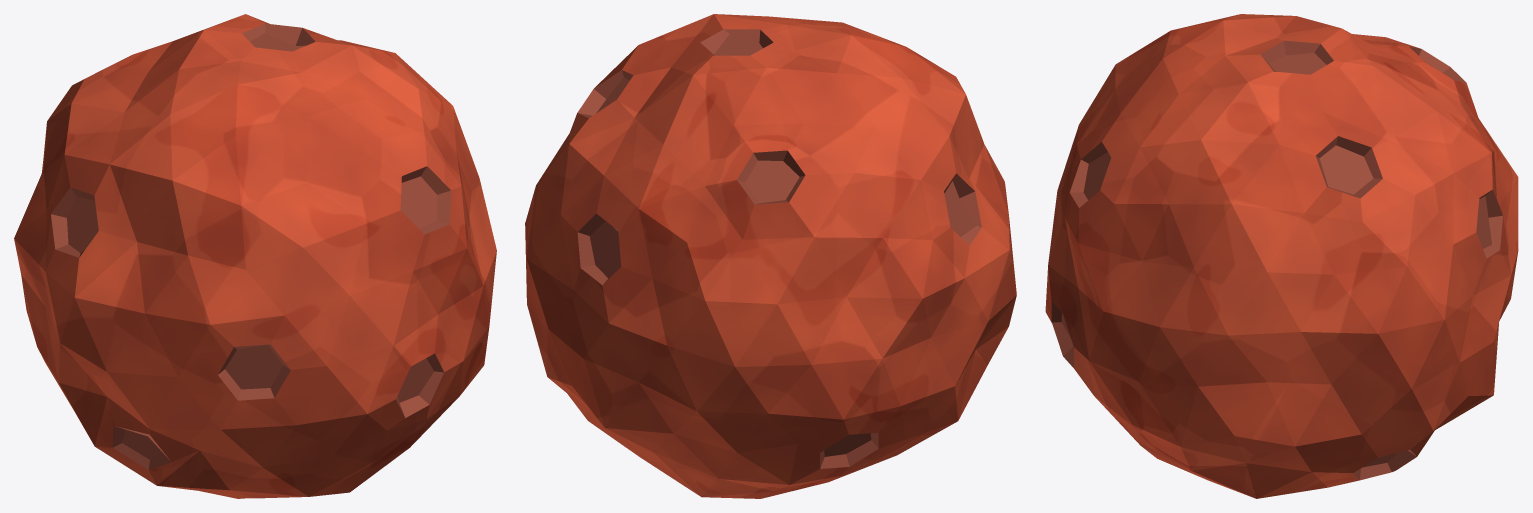
File: марс.fbx
The picture shows the model from 3 angles, left to right: view 1: azimuth 30°, elevation 25°; view 2: azimuth 150°, elevation 25°; view 3: azimuth 270°, elevation 25°; orthographic projection.
Visible parts, largest first — view 1: марс; view 2: марс; view 3: марс.
Boxes of the visible parts, box(x1,y1,x2,y2) form: марс: box(14, 14, 496, 498); марс: box(525, 14, 1016, 498); марс: box(1045, 14, 1518, 498).
Size of the model in its own units: 947 by 962 by 947.
